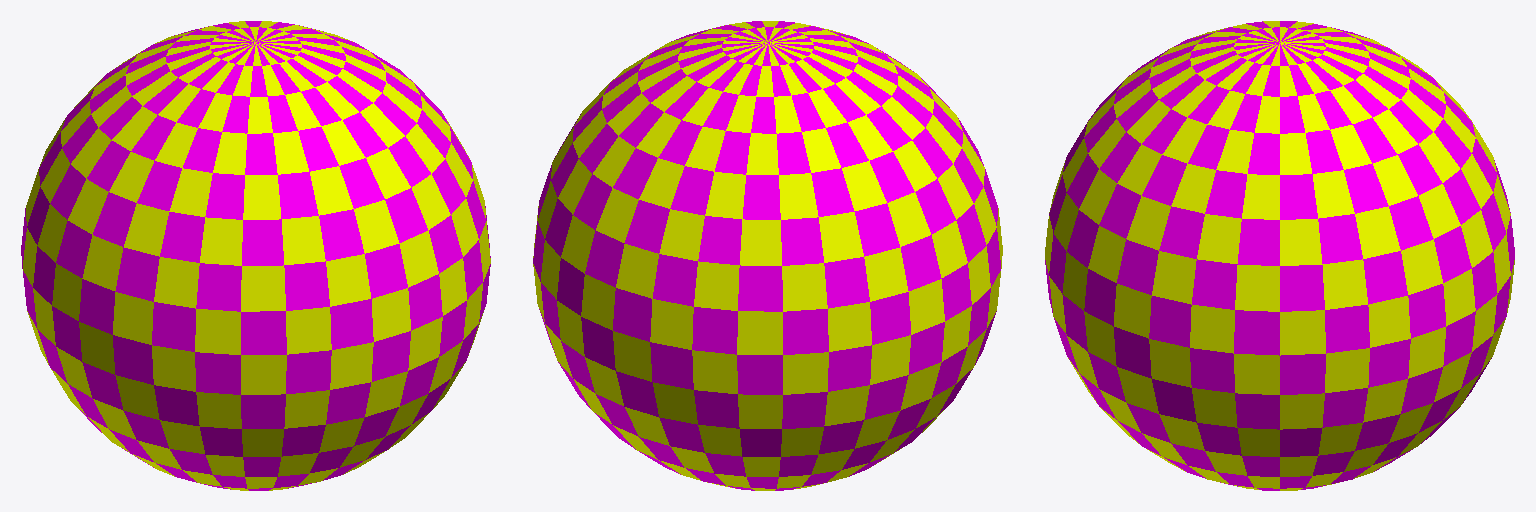
3 renders of one model, left to right at view 1: azimuth 30°, elevation 25°; view 2: azimuth 150°, elevation 25°; view 3: azimuth 270°, elevation 25°, orthographic.
Visible parts, largest first — view 1: 球; view 2: 球; view 3: 球.
Boxes of the visible parts, box(x1,y1,x2,y2) form: 球: box(21, 21, 490, 490); 球: box(533, 21, 1002, 490); 球: box(1045, 21, 1514, 490).
Bounding box in the file's own units: 2 × 2 × 2.
Materials: 1 (1 with a texture image).